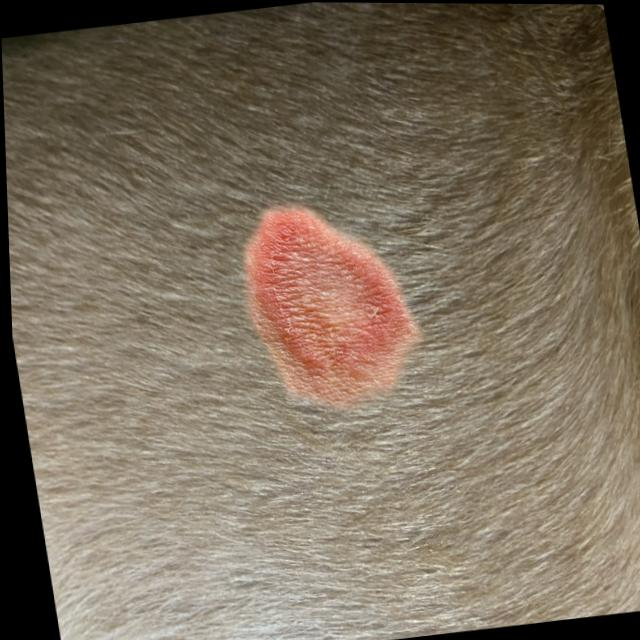ringworm: (208, 159, 458, 450)
